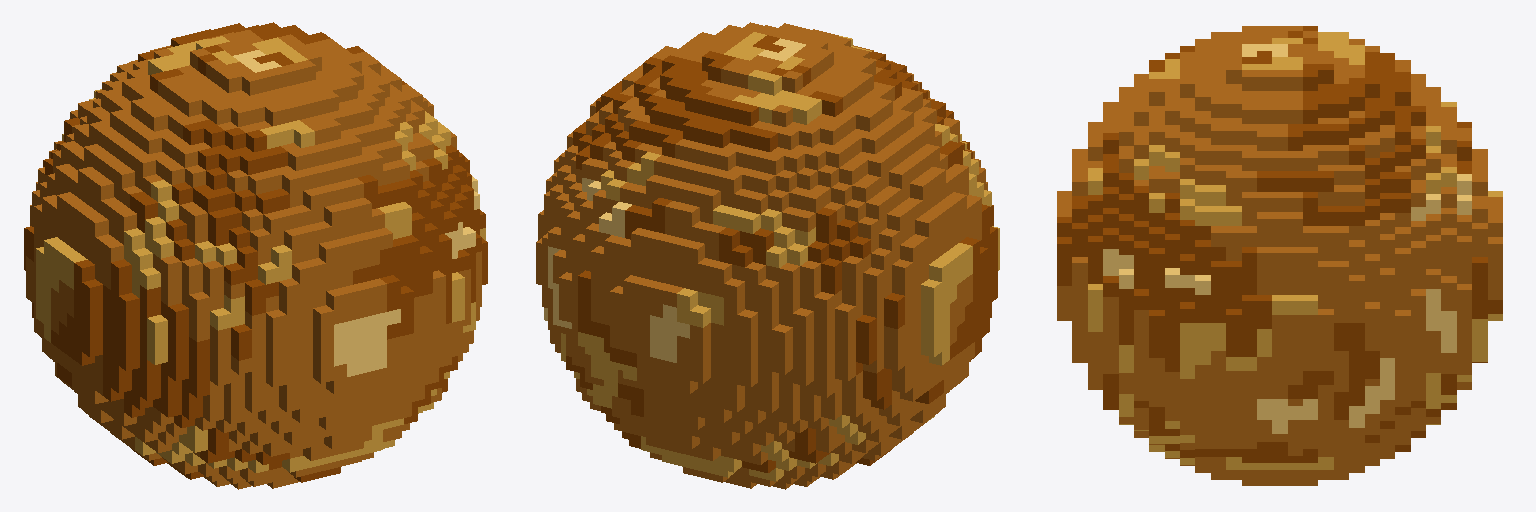
3 renders of one model, left to right at view 1: azimuth 30°, elevation 25°; view 2: azimuth 150°, elevation 25°; view 3: azimuth 270°, elevation 25°, orthographic.
Visible parts, largest first — view 1: venus; view 2: venus; view 3: venus.
Boxes of the visible parts, x1,y1,x2,y2 form: venus: [24, 22, 487, 489]; venus: [536, 22, 999, 489]; venus: [1057, 26, 1502, 485].
Size of the model in its own units: 29 by 29 by 29.
Materials: 1 (1 with a texture image).